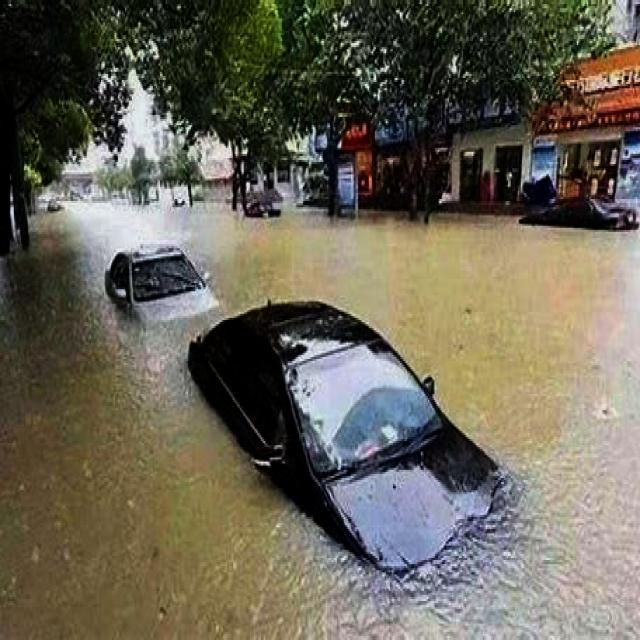water: (1, 201, 637, 639)
